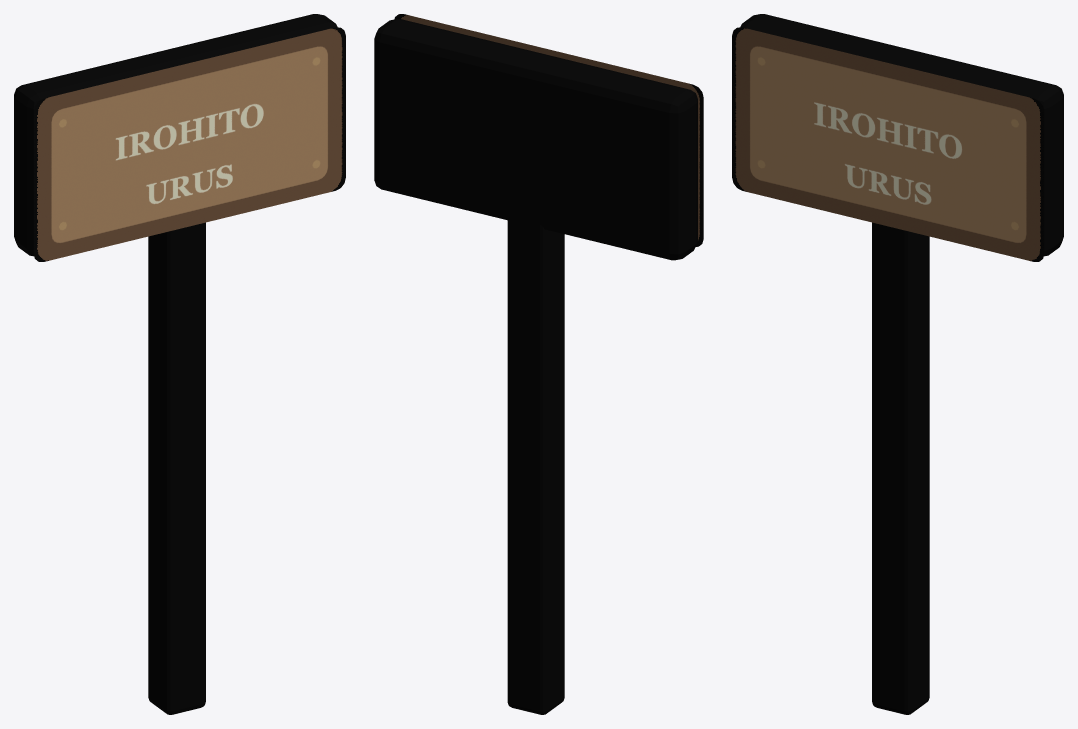
Rendered from PuebloDecorativo.fbx.
3 renders of one model, left to right at view 1: azimuth 30°, elevation 25°; view 2: azimuth 150°, elevation 25°; view 3: azimuth 330°, elevation 25°, orthographic.
Parts seen in each view (by area): view 1: SM_pueblo; view 2: SM_pueblo; view 3: SM_pueblo.
Boxes of the visible parts, x1,y1,x2,y2 form: SM_pueblo: (14, 14, 345, 714); SM_pueblo: (374, 14, 703, 714); SM_pueblo: (732, 14, 1063, 714).
Size of the model in its own units: 0.49 by 0.9765 by 0.0658.
